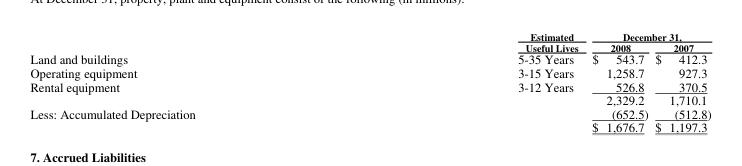table: (29, 29, 710, 135)
table column: (29, 29, 356, 135), (356, 29, 584, 135), (584, 29, 650, 135), (650, 29, 710, 135)
table column header: (29, 29, 710, 52)
table row: (29, 119, 710, 135), (29, 78, 710, 92), (29, 92, 710, 106), (29, 52, 710, 65), (29, 65, 710, 78), (29, 106, 710, 119), (29, 29, 710, 41), (29, 41, 710, 52)
table spanning cell: (29, 106, 356, 135), (29, 78, 356, 106), (356, 29, 584, 52), (584, 29, 710, 41)
